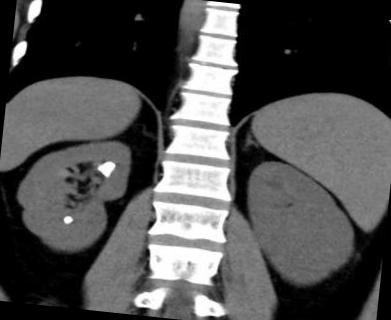Tas_Var: (93, 158, 117, 180), (57, 212, 73, 226)
